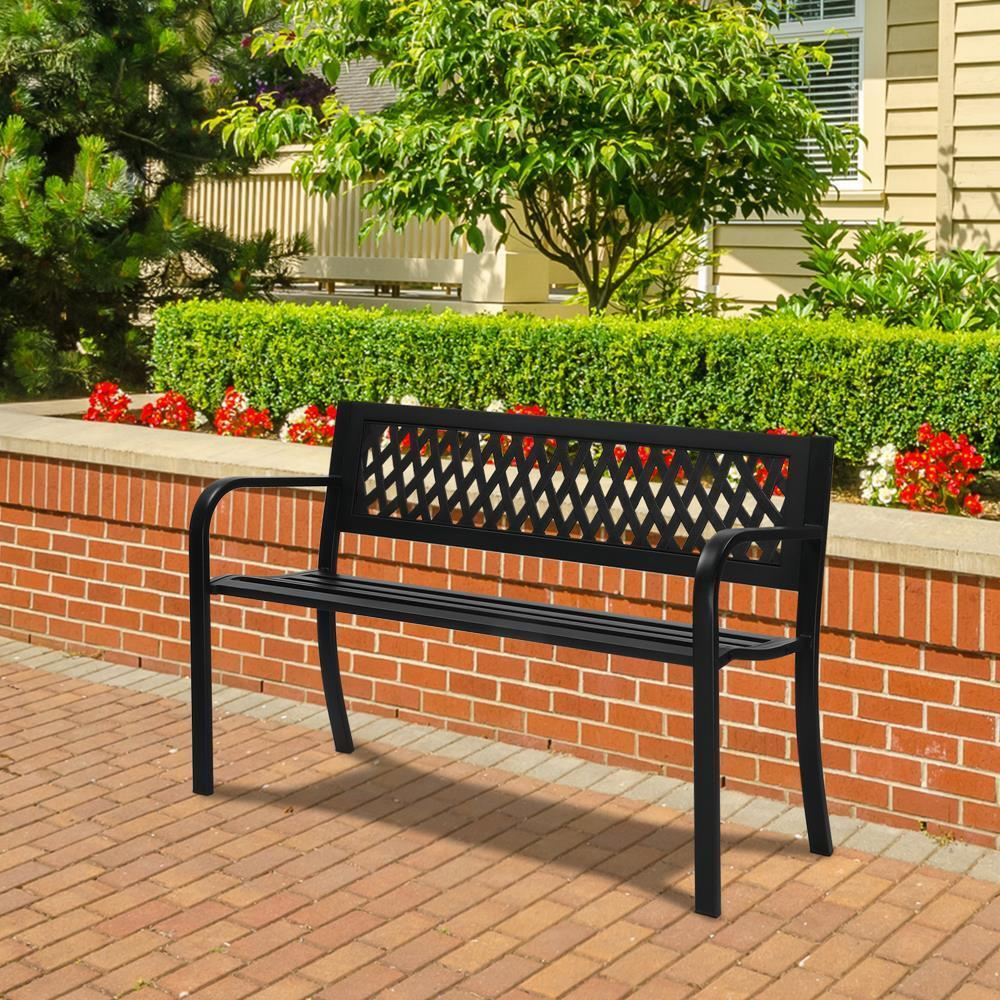Chair: (167, 382, 852, 928)
Tree: (288, 4, 860, 342)
